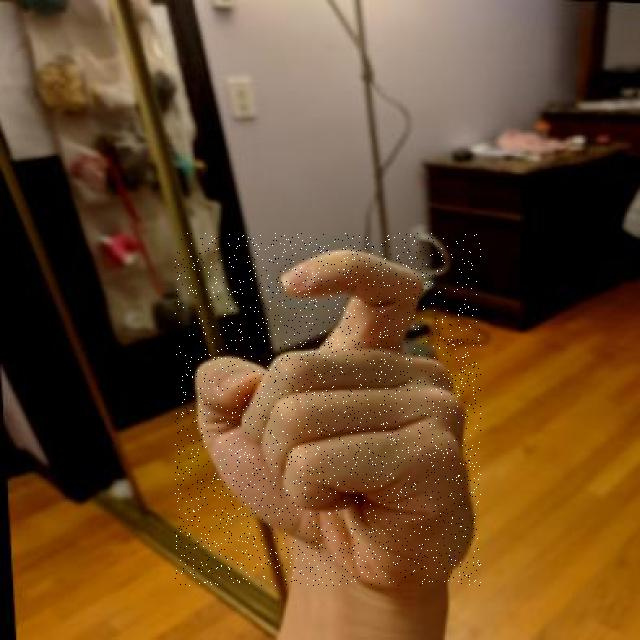X: (175, 233, 481, 586)
